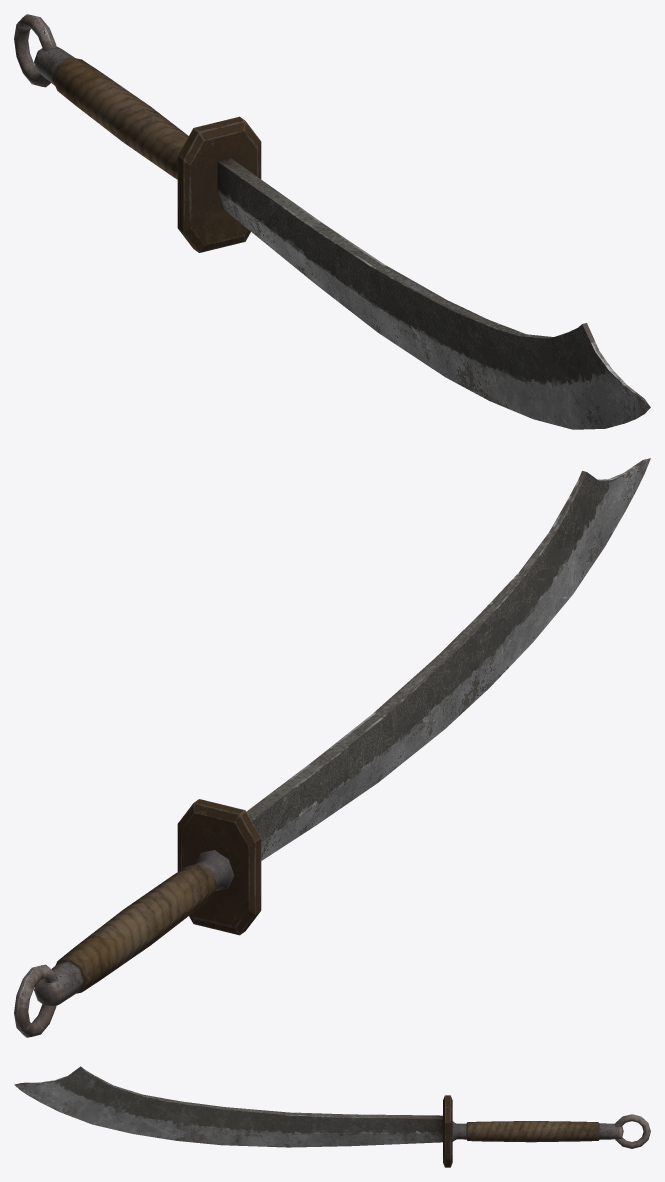
Rendered from weapon_dadao_test.fbx.
3 renders of one model, top to bottom at view 1: azimuth 30°, elevation 25°; view 2: azimuth 150°, elevation 25°; view 3: azimuth 270°, elevation 25°, orthographic. The views are drawn at different scales.
Visible parts, largest first — view 1: weapon_dadao; view 2: weapon_dadao; view 3: weapon_dadao.
Boxes of the visible parts, left/top/right/bottom form: weapon_dadao: left=14, top=14, right=650, bottom=429; weapon_dadao: left=14, top=458, right=650, bottom=1037; weapon_dadao: left=14, top=1066, right=650, bottom=1167.
Size of the model in its own units: 15.44 by 35.92 by 218.
